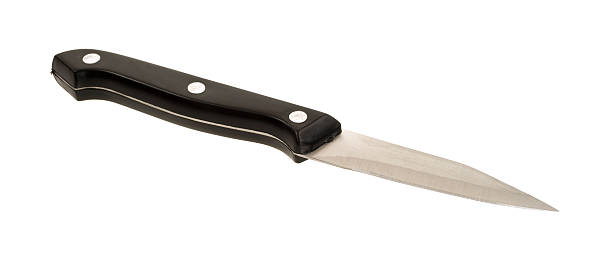knife: (48, 46, 561, 213)
